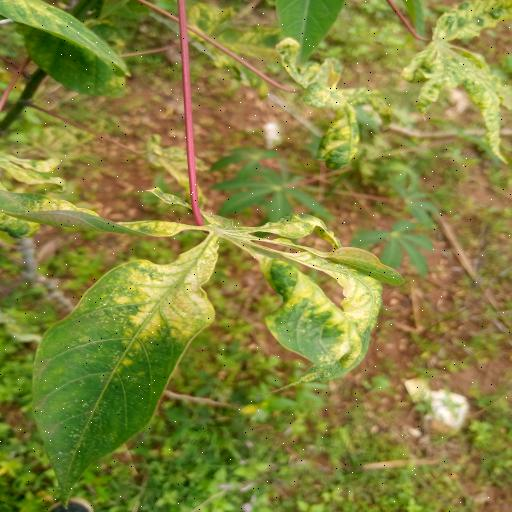Cassava_Mosaic: (0, 183, 406, 512), (272, 31, 399, 181), (408, 1, 512, 169)
